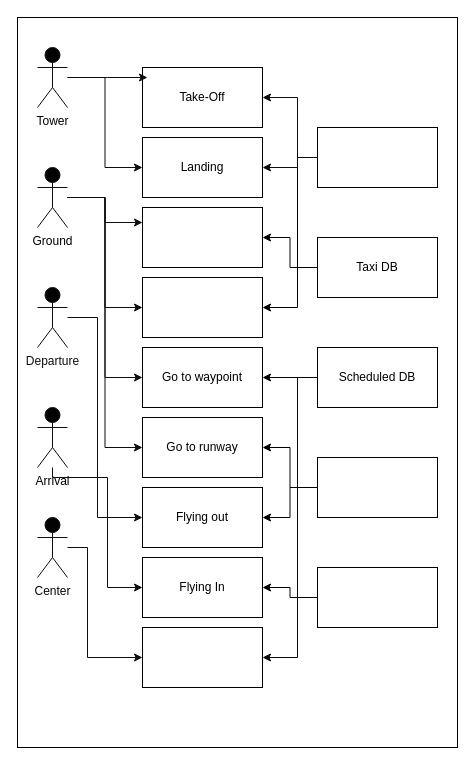
Image size: 475x765. Some labels were removed from this diagram. The centre of each missing label's shape, as x and y in pixels:
Flying In Area: the point at 202,657
Ground Service: the point at 202,307
Landing DB: the point at 377,597
Preapproved DB: the point at 377,157
Takeoff DB: the point at 377,487
Taxi: the point at 202,237
